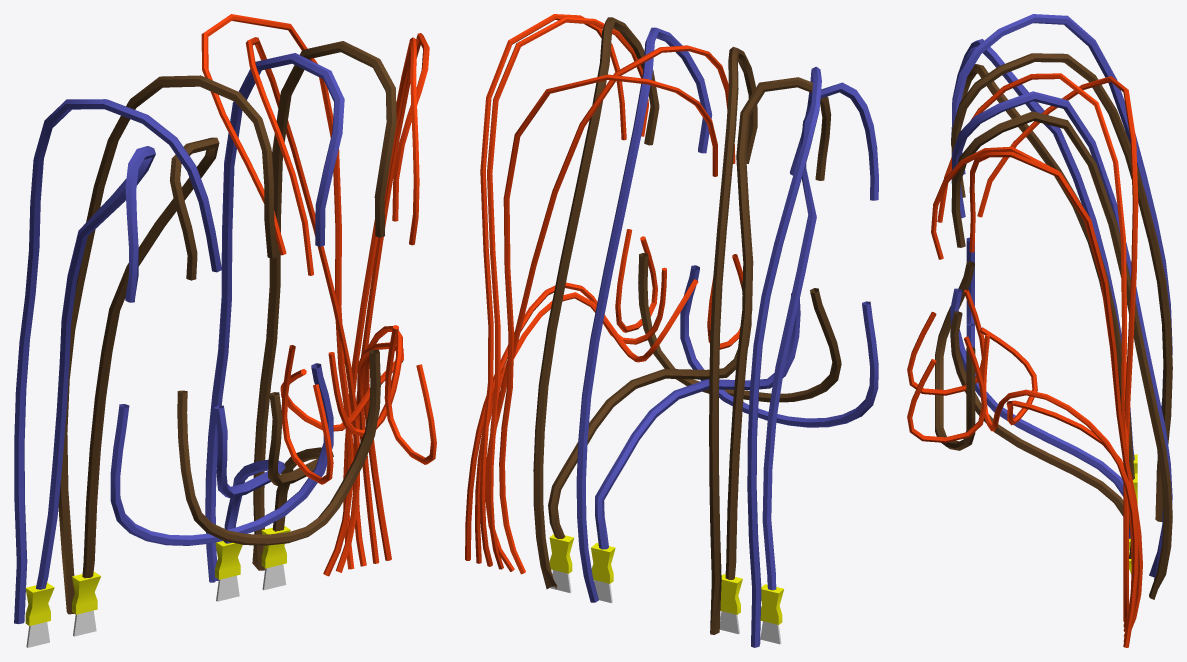
Rendered from Wires.FBX.
The picture shows the model from 3 angles, left to right: view 1: azimuth 30°, elevation 25°; view 2: azimuth 150°, elevation 25°; view 3: azimuth 270°, elevation 25°; orthographic projection. The views are drawn at different scales.
Visible parts, largest first — view 1: ThinCables; view 2: ThinCables; view 3: ThinCables.
Boxes of the visible parts, left/top/right/bottom form: ThinCables: left=14, top=14, right=436, bottom=647; ThinCables: left=465, top=14, right=878, bottom=647; ThinCables: left=907, top=14, right=1172, bottom=647.
Size of the model in its own units: 19.11 by 29.18 by 13.96.
